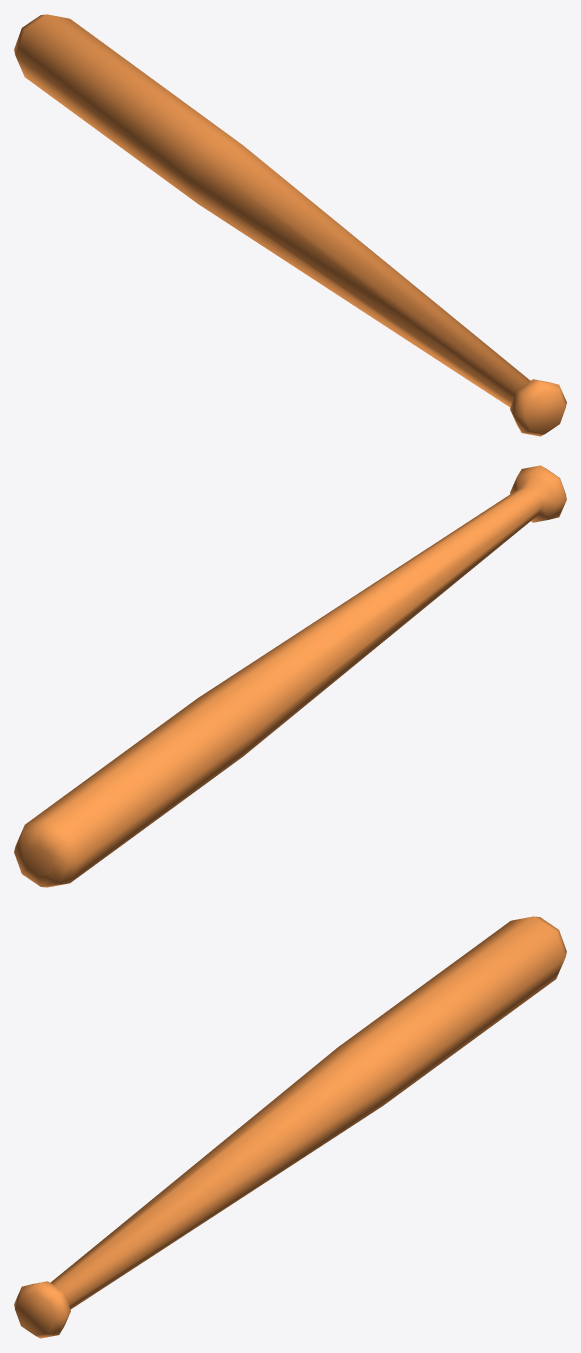
The model's file is BaseballBat_01.fbx.
3 renders of one model, top to bottom at view 1: azimuth 30°, elevation 25°; view 2: azimuth 150°, elevation 25°; view 3: azimuth 330°, elevation 25°, orthographic.
Visible parts, largest first — view 1: BaseballBat_01; view 2: BaseballBat_01; view 3: BaseballBat_01.
Part boxes in pixels (bbox=[...]): BaseballBat_01: bbox=[14, 14, 566, 436]; BaseballBat_01: bbox=[14, 465, 566, 887]; BaseballBat_01: bbox=[14, 916, 566, 1338].
Bounding box in the file's own units: 10.16 × 10.16 × 139.
